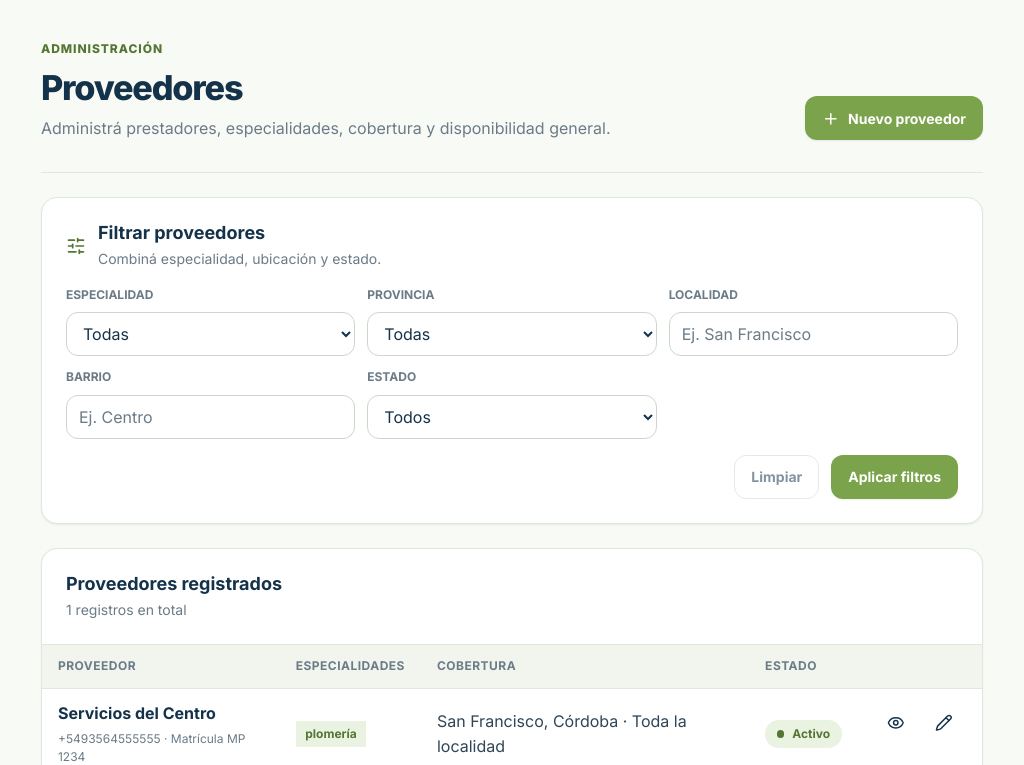
Test: listado de proveedores › no envía un filtro por barrio sin provincia y localidad
Expected: the link "Servicios del Centro" is shown, [58,703,216,723]
Step 1. Type "Centro" into the field labelled "Barrio" → coordinates (211, 417), box [66,395,355,439]
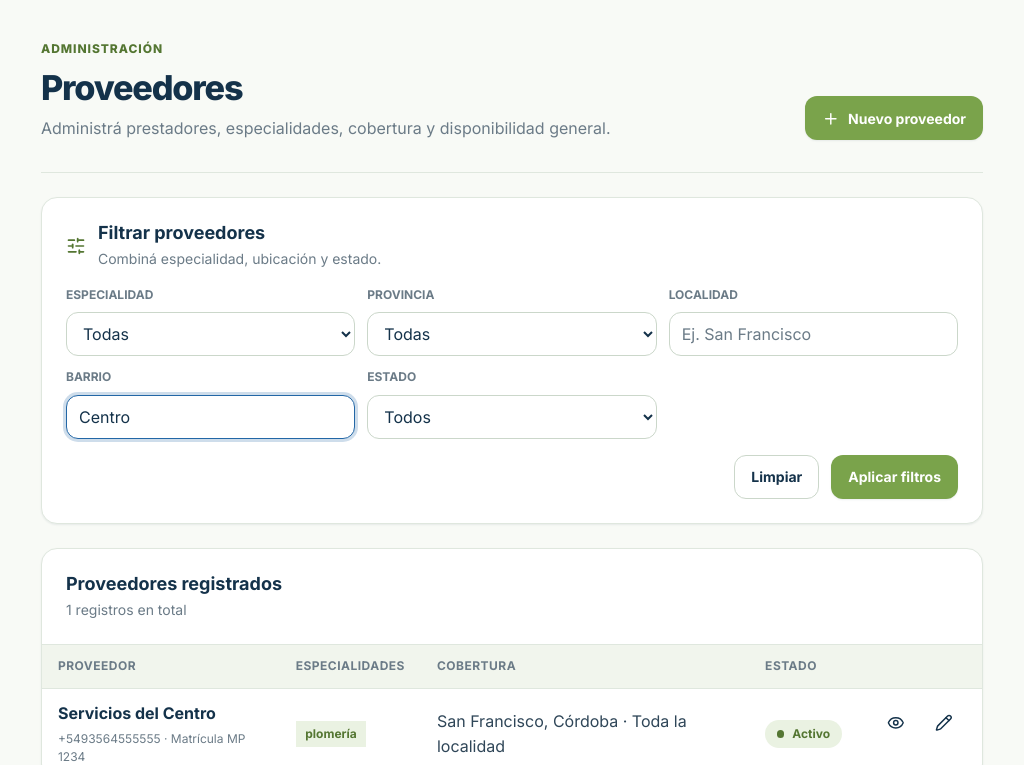
Step 2. Click the button "Aplicar filtros" → coordinates (895, 477), box [831,455,958,499]
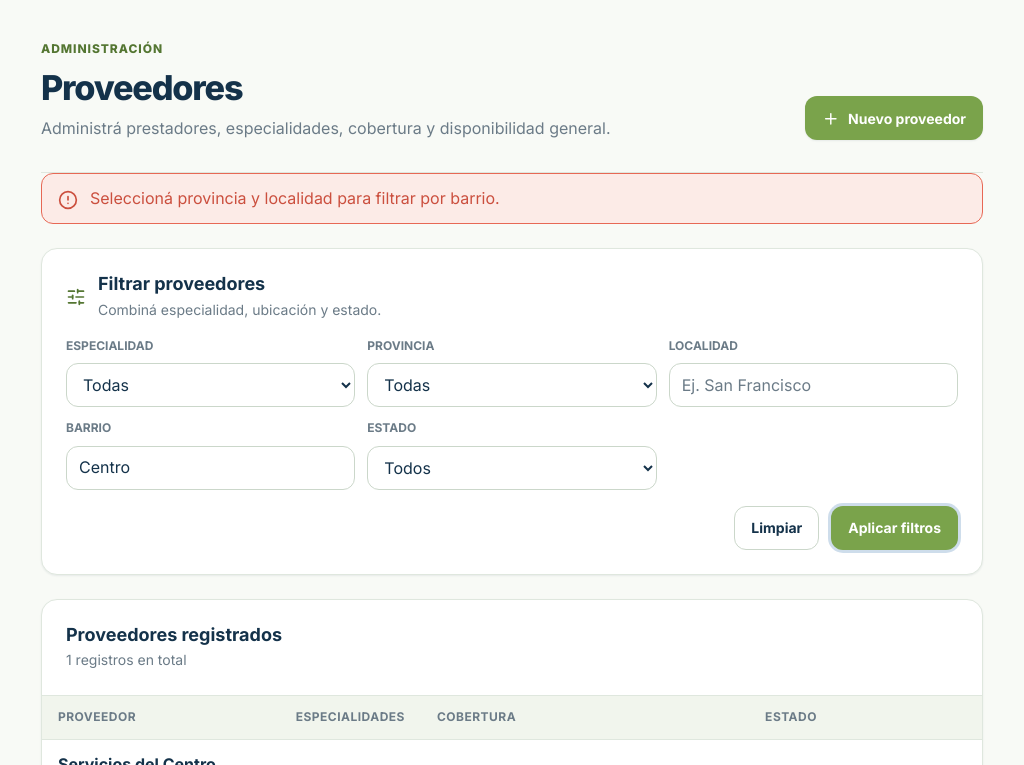
Expected: the text "Seleccioná provincia y localidad para filtrar por barrio." is shown, [90,186,500,211]
